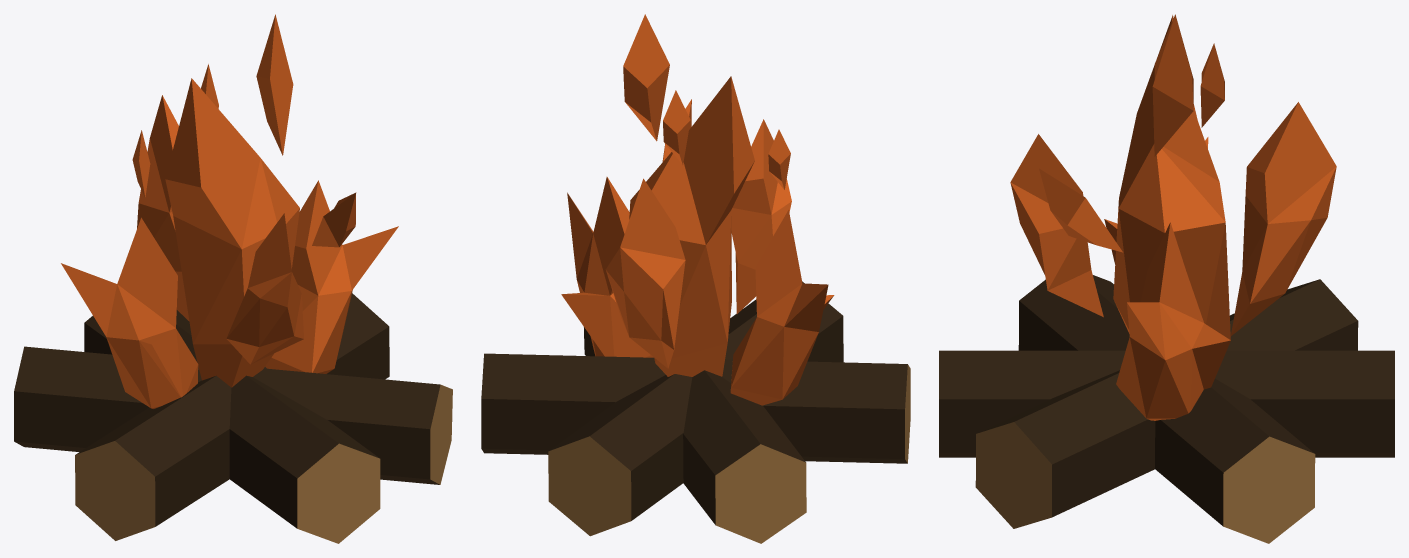
The model's file is lagerfaerli.fbx.
3 renders of one model, left to right at view 1: azimuth 30°, elevation 25°; view 2: azimuth 150°, elevation 25°; view 3: azimuth 270°, elevation 25°, orthographic. The views are drawn at different scales.
Visible parts, largest first — view 1: Lagerfuerli_1; view 2: Lagerfuerli_1; view 3: Lagerfuerli_1.
Boxes of the visible parts, x1,y1,x2,y2 form: Lagerfuerli_1: (14,14,452,543); Lagerfuerli_1: (481,14,910,543); Lagerfuerli_1: (939,14,1394,543).
Bounding box in the file's own units: 0.211 × 0.2404 × 0.2121.
